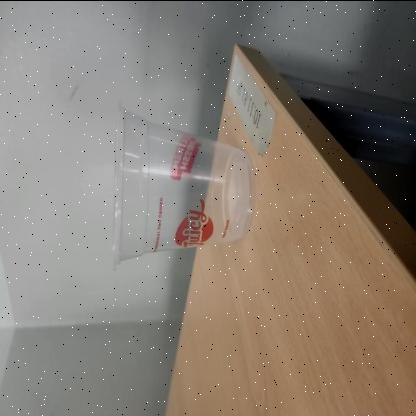Others: (108, 97, 256, 271)
